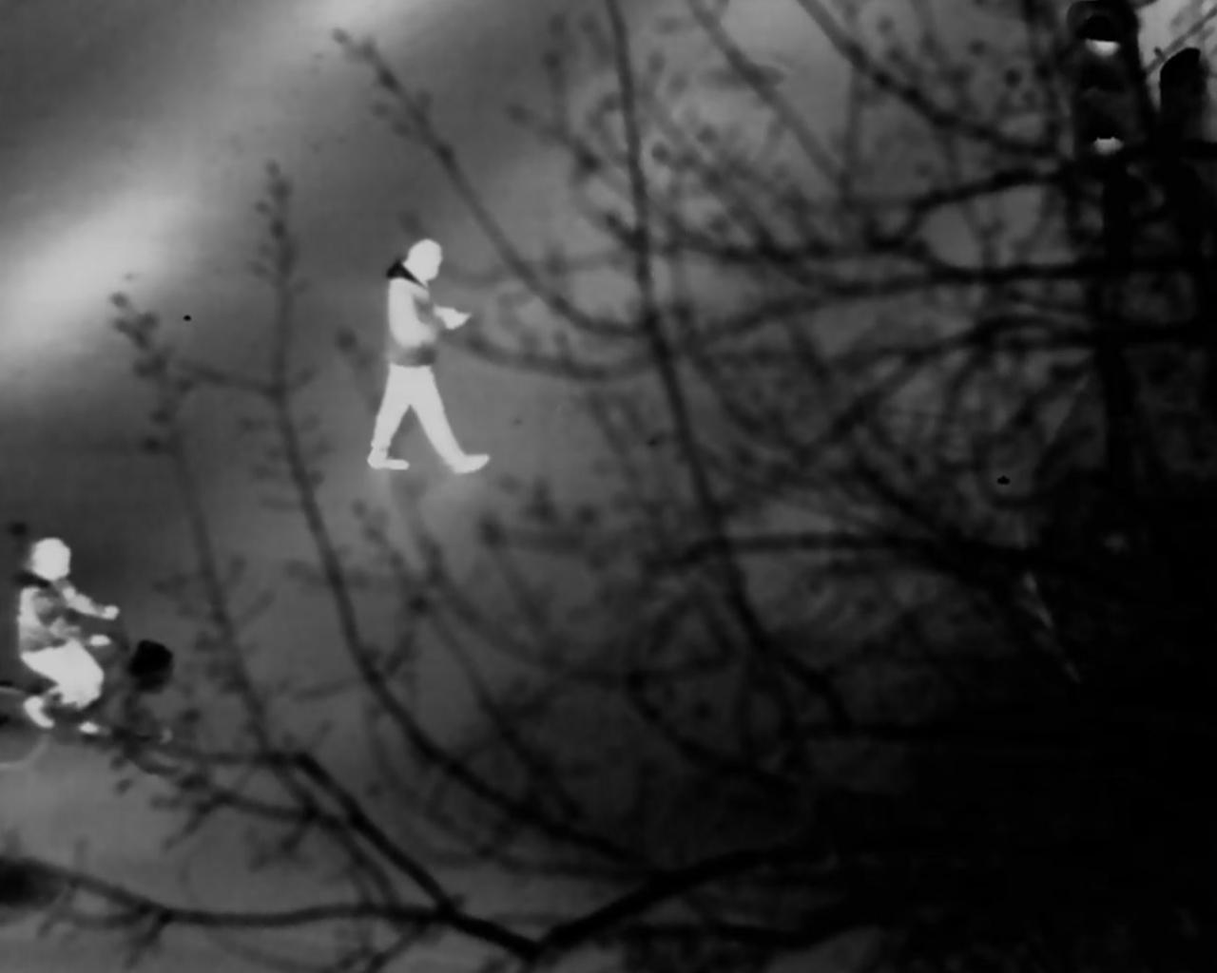person: (365, 232, 484, 472), (15, 540, 123, 736)
